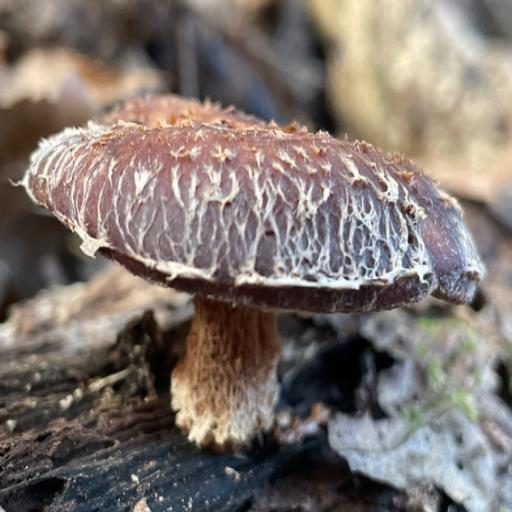Shiitake Mushroom: (32, 0, 478, 441)
